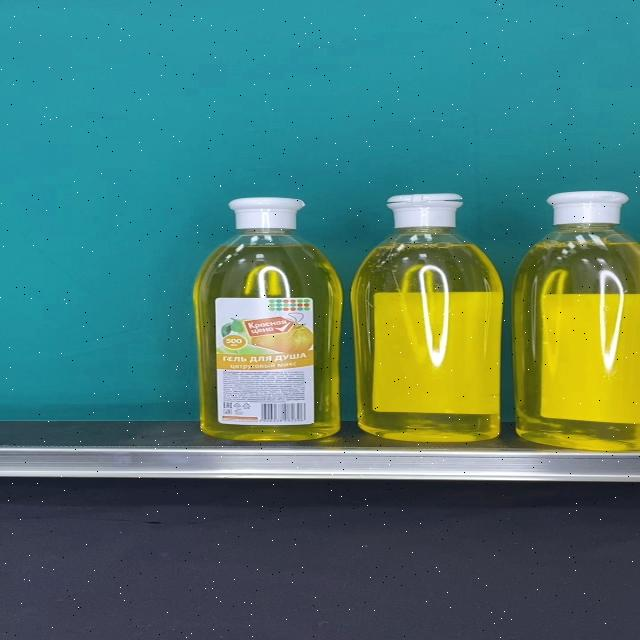Bottle: (351, 193, 504, 442), (193, 197, 344, 440), (510, 190, 640, 452)
Cap: (548, 190, 630, 225), (228, 197, 306, 231), (388, 193, 465, 227)
